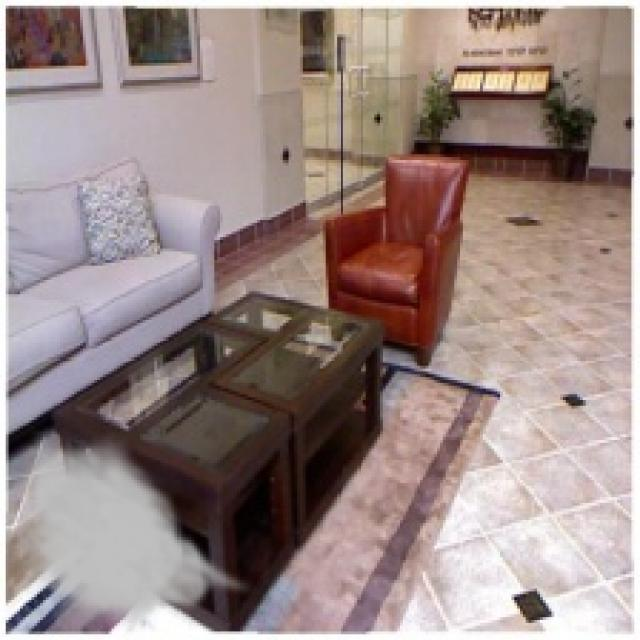Smoke: (11, 428, 258, 634)
